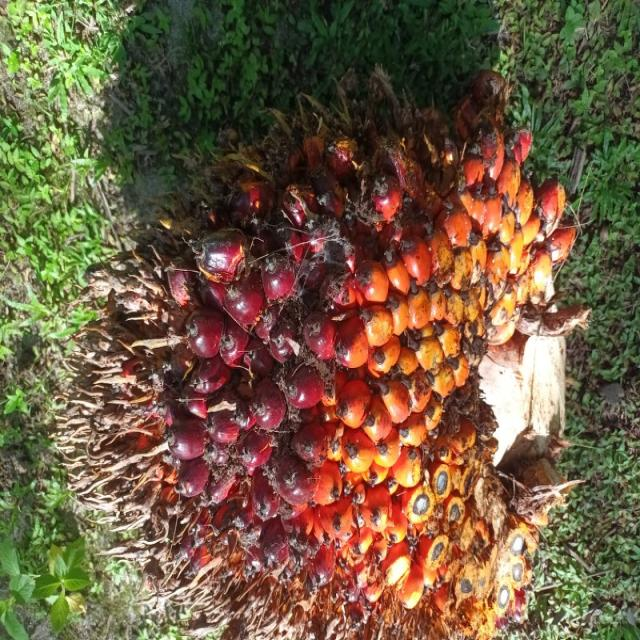fraksi 1: (0, 83, 411, 640)
